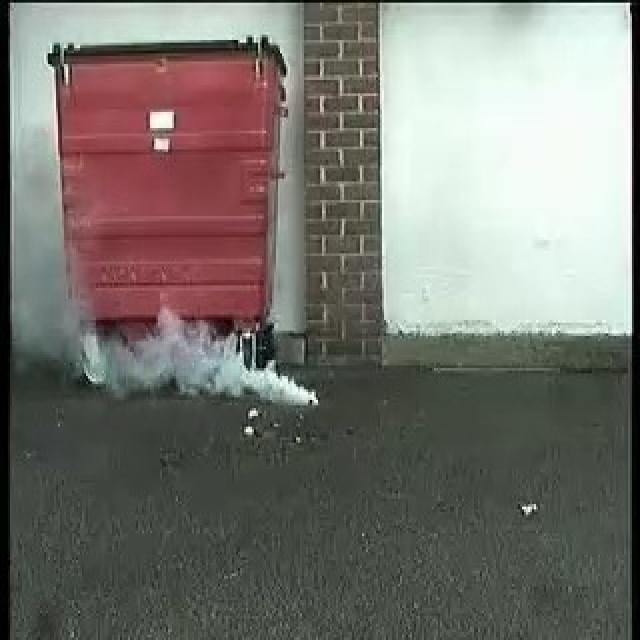smoke: (74, 316, 320, 411)
